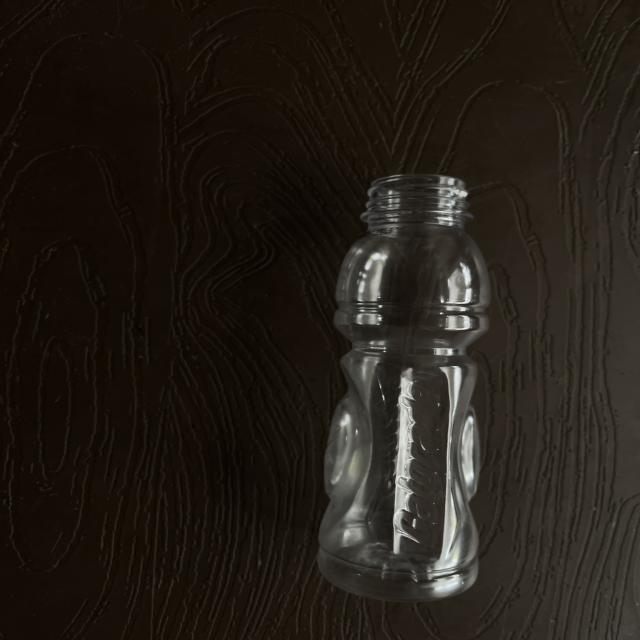PET_ClearBottle: (281, 171, 593, 608)
